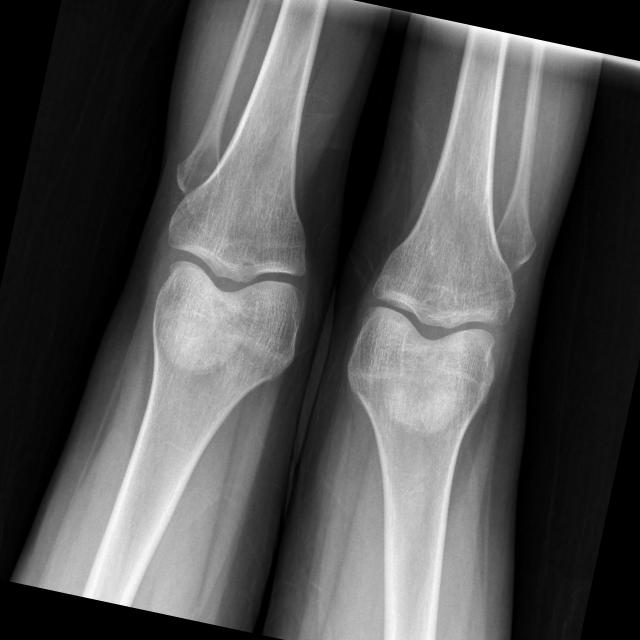Knee: (139, 177, 324, 370), (340, 230, 524, 416)
